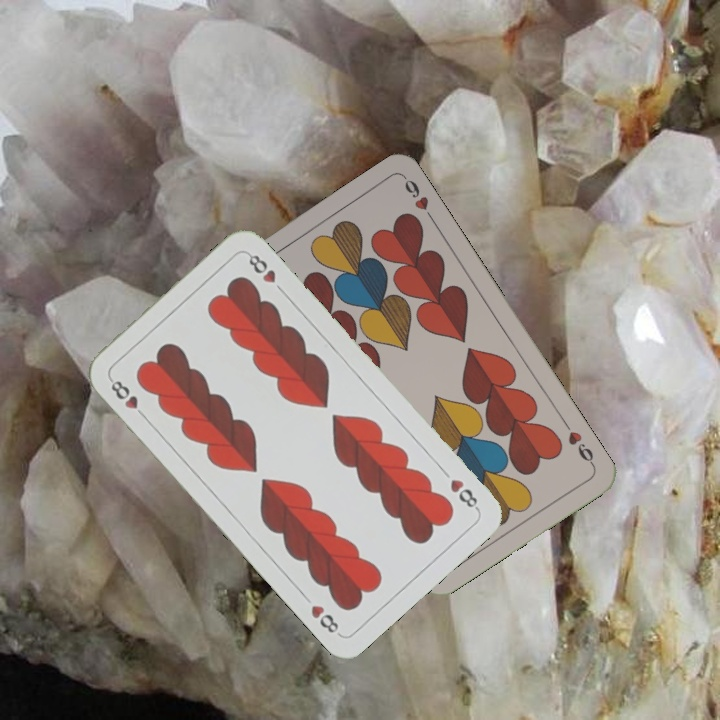H8: (105, 374, 150, 422), (446, 475, 482, 513)
H9: (559, 417, 597, 469)
